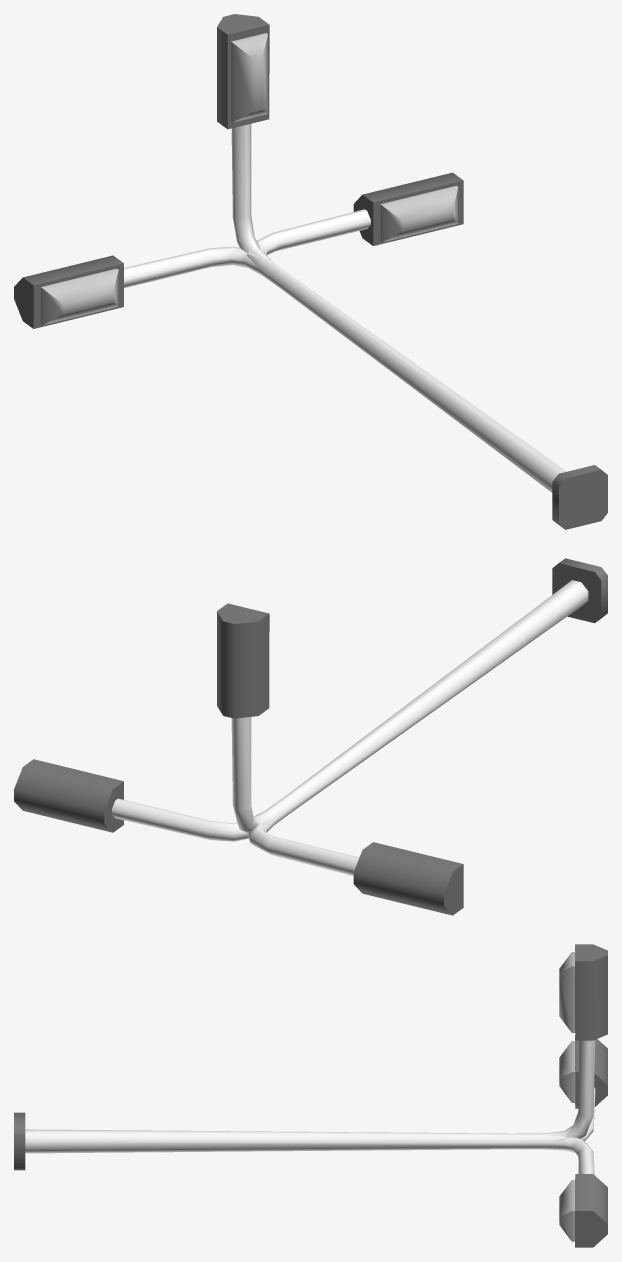
Rendered from P_Light.fbx.
The picture shows the model from 3 angles, top to bottom: view 1: azimuth 30°, elevation 25°; view 2: azimuth 150°, elevation 25°; view 3: azimuth 270°, elevation 25°; orthographic projection. The views are drawn at different scales.
Parts seen in each view (by area): view 1: streetlamp03; view 2: streetlamp03; view 3: streetlamp03.
Part boxes in pixels (x1,y1,x2,y2): streetlamp03: [14, 14, 607, 529]; streetlamp03: [14, 558, 607, 915]; streetlamp03: [14, 944, 607, 1247].
Bounding box in the file's own units: 423 × 235 × 603.
